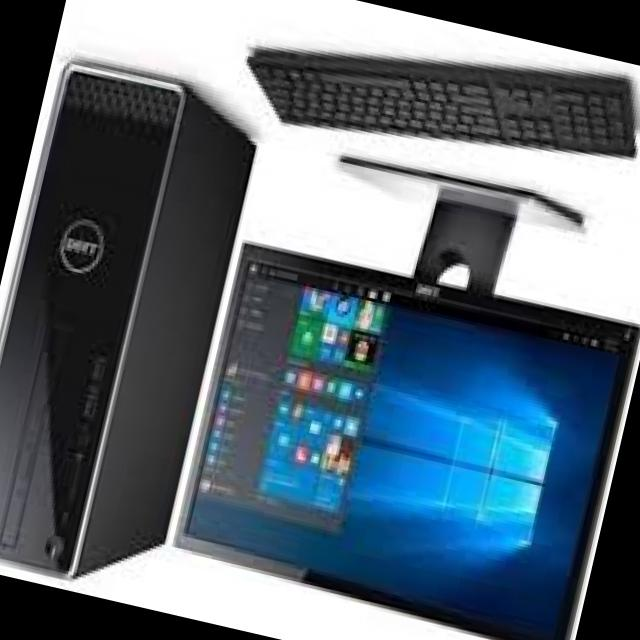Computer: (0, 50, 269, 609)
Monitor: (164, 222, 640, 640)
